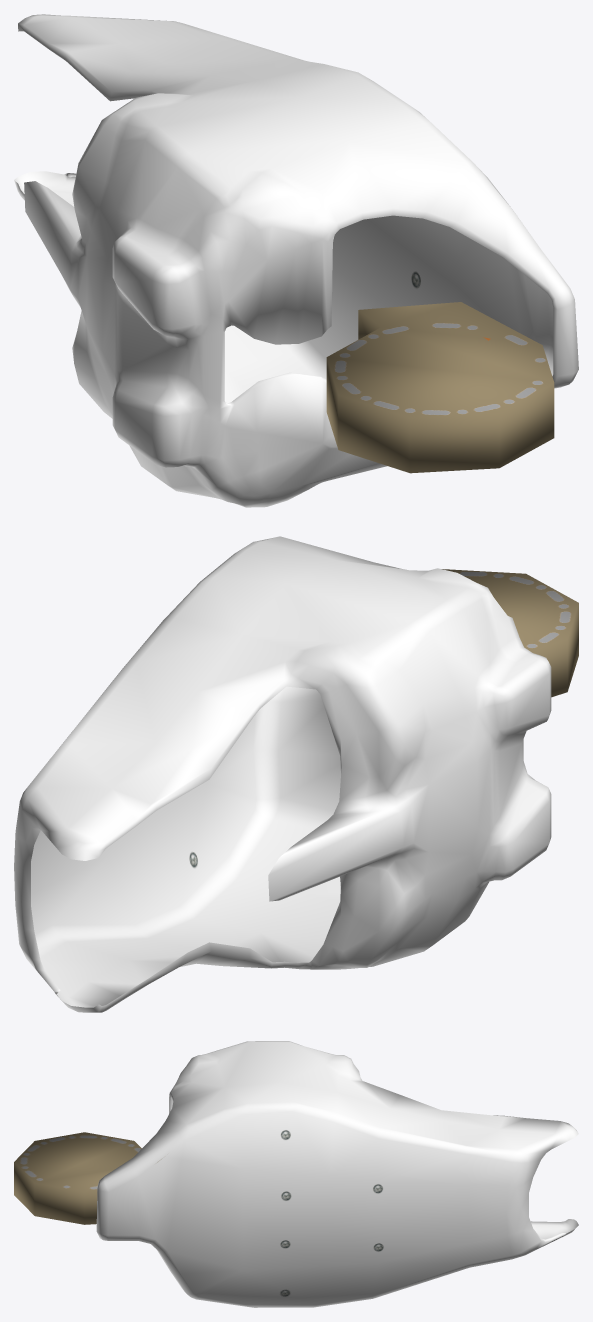
The model's file is lj4_right_texture.obj.
The picture shows the model from 3 angles, top to bottom: view 1: azimuth 30°, elevation 25°; view 2: azimuth 150°, elevation 25°; view 3: azimuth 270°, elevation 25°; orthographic projection. The views are drawn at different scales.
Size of the model in its own units: 0.1865 by 0.1791 by 0.4459.
1 material, 1 textured.
